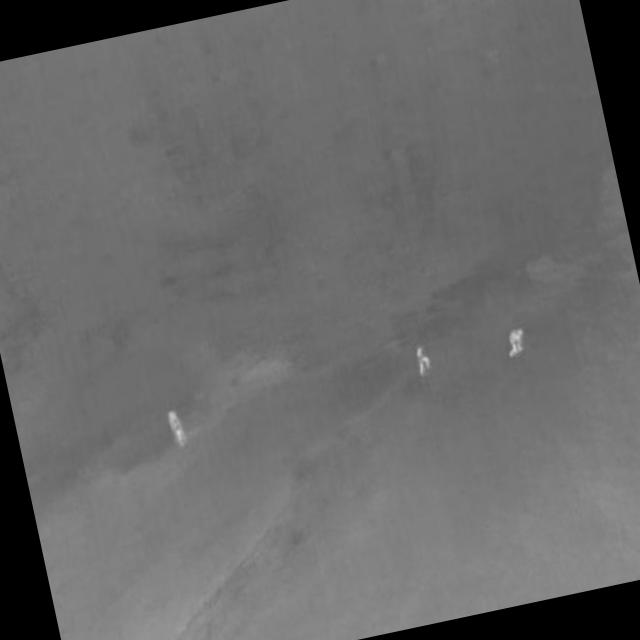person: (166, 409, 190, 450), (504, 328, 529, 360), (413, 342, 434, 378)
